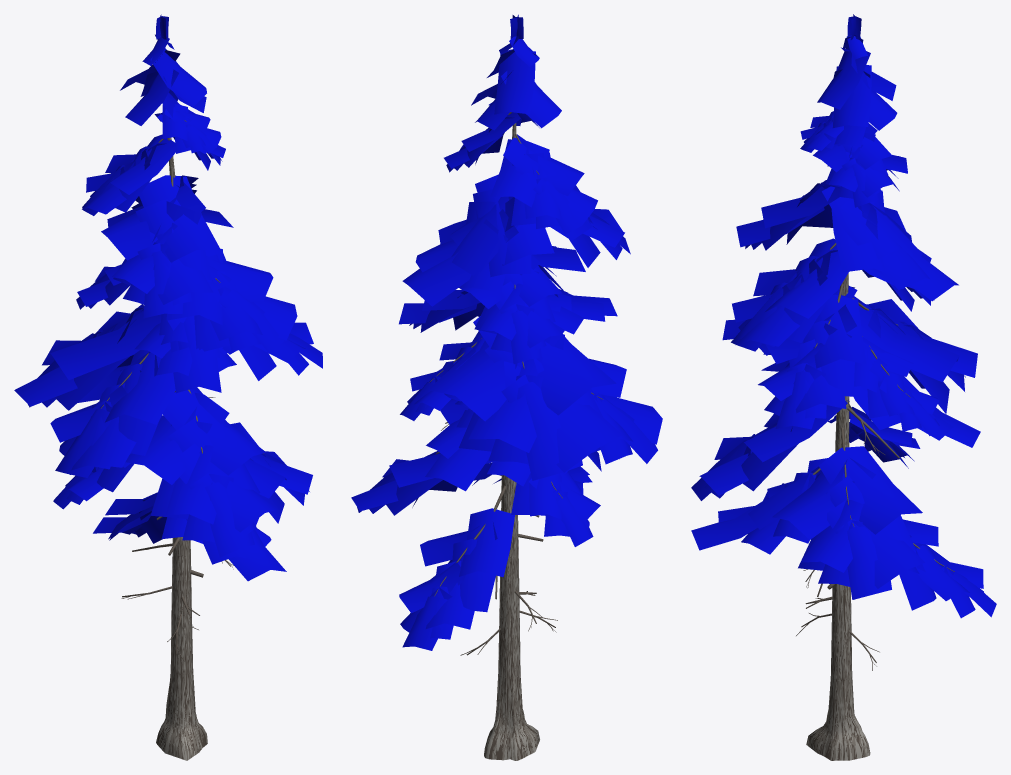
File: Spruce_2.fbx
The picture shows the model from 3 angles, left to right: view 1: azimuth 30°, elevation 25°; view 2: azimuth 150°, elevation 25°; view 3: azimuth 270°, elevation 25°; orthographic projection. The views are drawn at different scales.
Parts seen in each view (by area): view 1: Spruce_2_LOD0; view 2: Spruce_2_LOD0; view 3: Spruce_2_LOD0.
Boxes of the visible parts, x1,y1,x2,y2 form: Spruce_2_LOD0: (14,14,322,760); Spruce_2_LOD0: (351,14,662,760); Spruce_2_LOD0: (691,14,996,760).
Size of what is drawn, in the model's own units: 647 by 1695 by 645.
